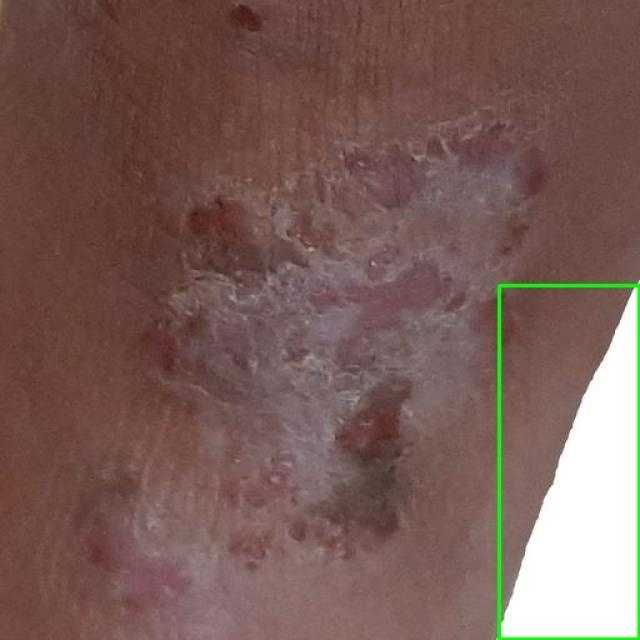Contact Dermatitis: (499, 285, 639, 639)
